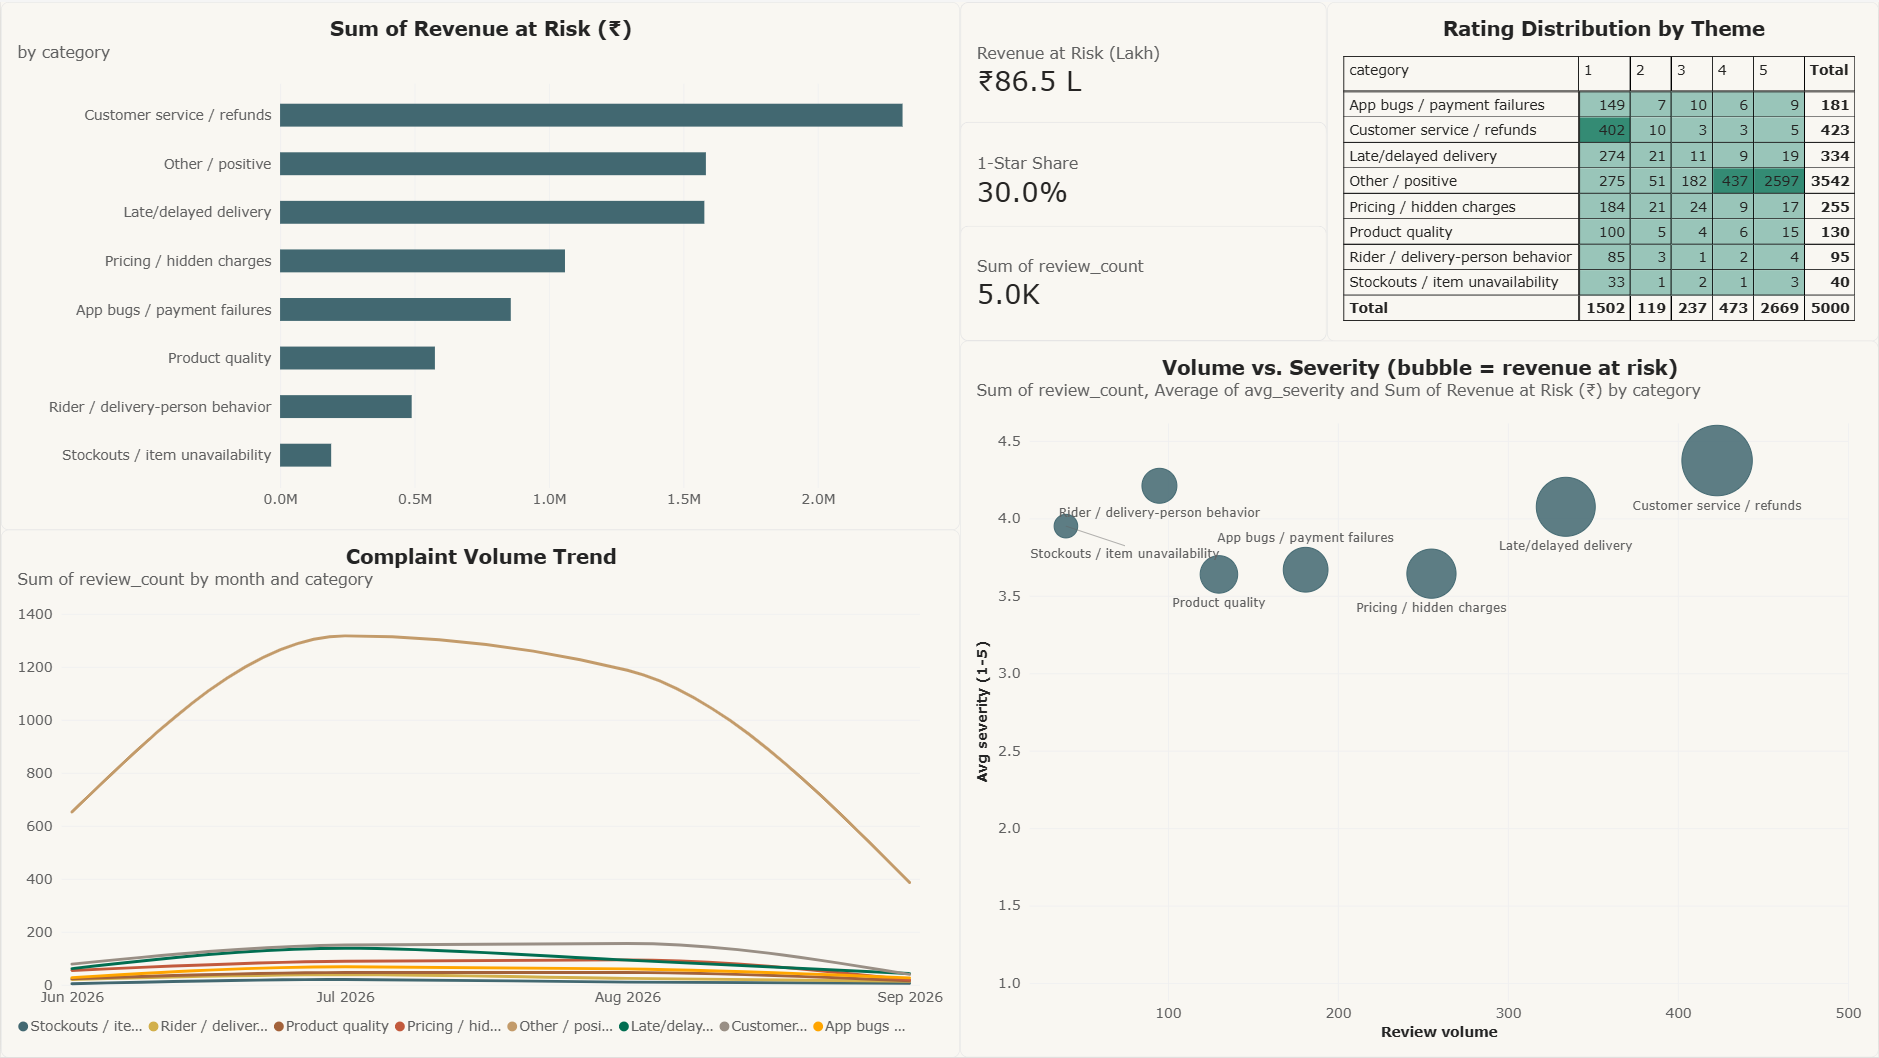

What the dashboard file says about the page in this screenshot:
{"tool":"powerbi","page":{"name":"Page 1","canvas":[1920,1080],"ordinal":0},"visuals":[{"type":"cardVisual","fields":{"Data":["revenue_at_risk.Revenue at Risk (Lakh)"]},"box":[981.1,0,375.2,140.7],"z":0},{"type":"textbox","box":[10,290,280,280],"z":1000},{"type":"cardVisual","fields":{"Data":["rating_distribution_by_theme.1-Star Share"]},"box":[981.1,121.9,375.2,121.9],"z":2000},{"type":"cardVisual","fields":{"Data":["Sum(severity_weighted_score.review_count)"]},"box":[981.1,228.9,375.2,118.2],"z":3000},{"type":"clusteredBarChart","fields":{"Category":["revenue_at_risk.category"],"Y":["Sum(revenue_at_risk.revenue_at_risk_inr)"]},"box":[0,0,981.1,540.3],"z":4000},{"type":"lineChart","title":"Complaint Volume Trend ","fields":{"Category":["monthly_theme_volume.month"],"Series":["monthly_theme_volume.category"],"Y":["Sum(monthly_theme_volume.review_count)"]},"box":[0,540.3,981.1,540.3],"z":5000},{"type":"pivotTable","title":"Rating Distribution by Theme","fields":{"Columns":["rating_distribution_by_theme.rating"],"Rows":["rating_distribution_by_theme.category"],"Values":["Sum(rating_distribution_by_theme.review_count)"]},"box":[1356.3,0,564.7,347],"z":6000},{"type":"scatterChart","title":"Volume vs. Severity (bubble = revenue at risk)","fields":{"Category":["revenue_at_risk.category"],"Size":["Sum(revenue_at_risk.Revenue at Risk (₹))"],"X":["Sum(revenue_at_risk.review_count)"],"Y":["Avg(severity_weighted_score.avg_severity)"]},"box":[981.1,347,939.8,733.5],"z":7000}]}

Visuals, with their boxes in screenshot pixels (x1, y1, x2, y2), scaled from the page's 1920x1080 canvas onto the 1879x1058 screenshot:
cardVisual - revenue_at_risk.Revenue at Risk (Lakh): Rect(960, 0, 1327, 138)
textbox: Rect(10, 284, 284, 558)
cardVisual - rating_distribution_by_theme.1-Star Share: Rect(960, 119, 1327, 239)
cardVisual - Sum(severity_weighted_score.review_count): Rect(960, 224, 1327, 340)
clusteredBarChart - revenue_at_risk.category x Sum(revenue_at_risk.revenue_at_risk_inr): Rect(0, 0, 960, 529)
"Complaint Volume Trend " lineChart: Rect(0, 529, 960, 1057)
"Rating Distribution by Theme" pivotTable: Rect(1327, 0, 1878, 340)
"Volume vs. Severity (bubble = revenue at risk)" scatterChart: Rect(960, 340, 1878, 1057)
